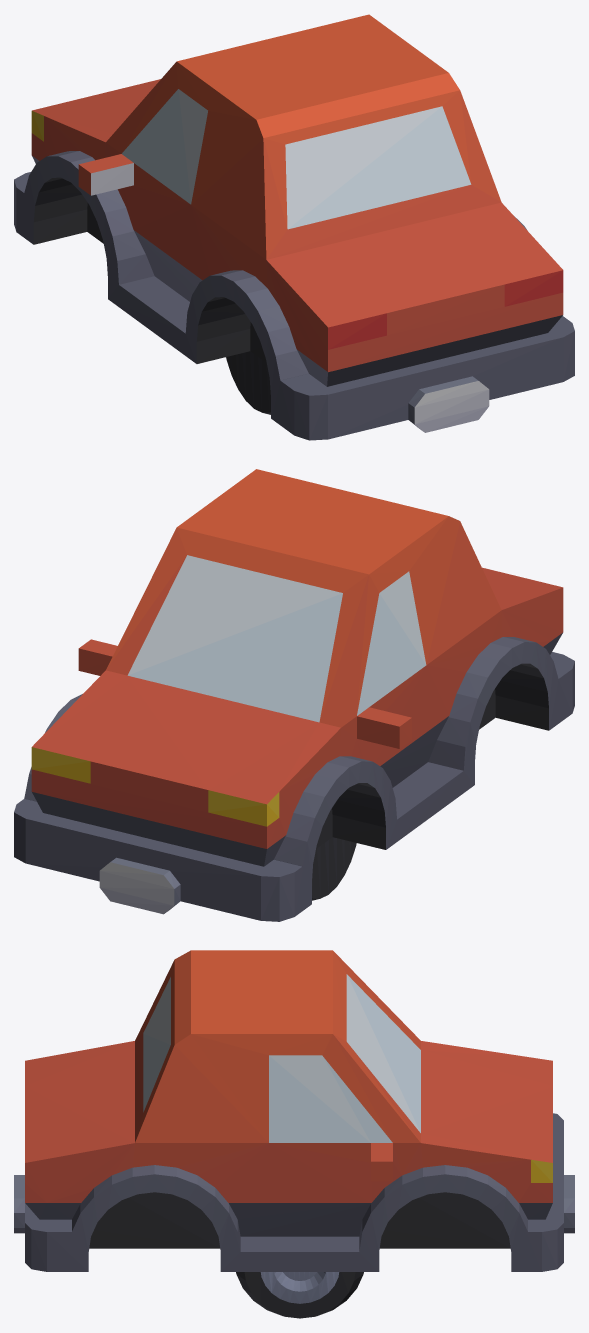
Rendered from sedan.glb.
3 renders of one model, top to bottom at view 1: azimuth 30°, elevation 25°; view 2: azimuth 150°, elevation 25°; view 3: azimuth 270°, elevation 25°, orthographic. The views are drawn at different scales.
Visible parts, largest first — view 1: trim, wheel; view 2: trim, wheel; view 3: trim, wheel.
Part boxes in pixels (bbox=[...]): trim: bbox=[14, 14, 574, 440]; wheel: bbox=[226, 351, 270, 414]; trim: bbox=[14, 469, 574, 921]; wheel: bbox=[312, 837, 356, 900]; trim: bbox=[14, 950, 574, 1271]; wheel: bbox=[236, 1272, 363, 1318].
Bounding box in the file's own units: 1.5 × 1.6 × 2.55.
